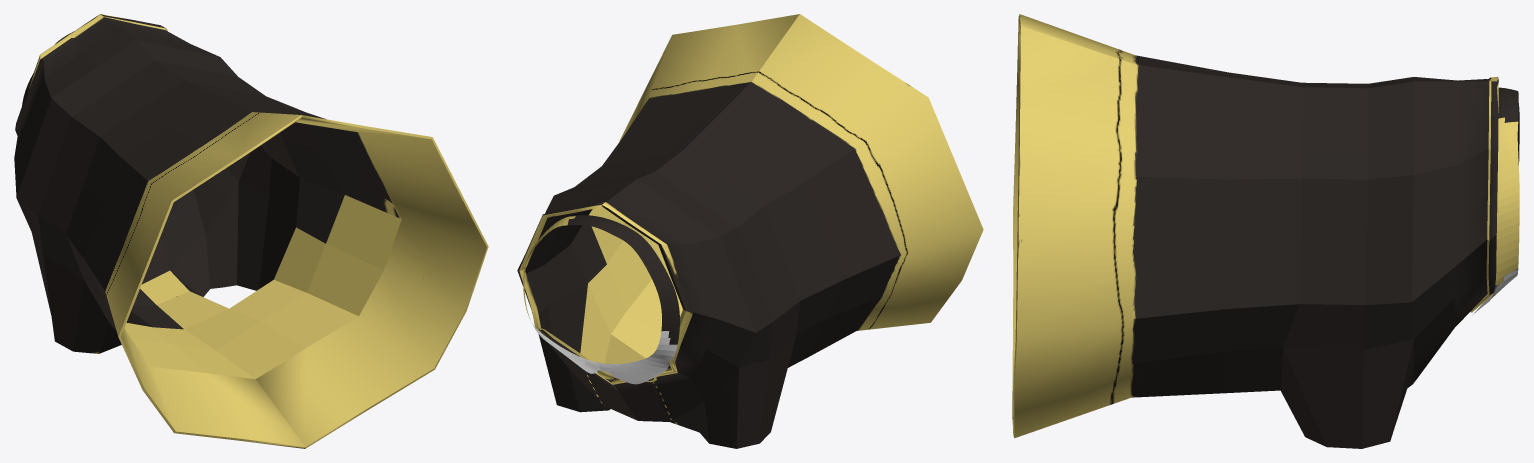
File: Anya Forger (SPY x FAMILY).fbx
3 views of the same model, side by side, from view 1: azimuth 30°, elevation 25°; view 2: azimuth 150°, elevation 25°; view 3: azimuth 270°, elevation 25° (orthographic). The views are drawn at different scales.
Parts seen in each view (by area): view 1: Сфера.001; view 2: Сфера.001; view 3: Сфера.001.
Part boxes in pixels (<box>): Сфера.001: <box>14,14,488,448</box>; Сфера.001: <box>517,14,983,448</box>; Сфера.001: <box>1012,14,1519,448</box>.
Size of the model in its own units: 529 by 453 by 530.
